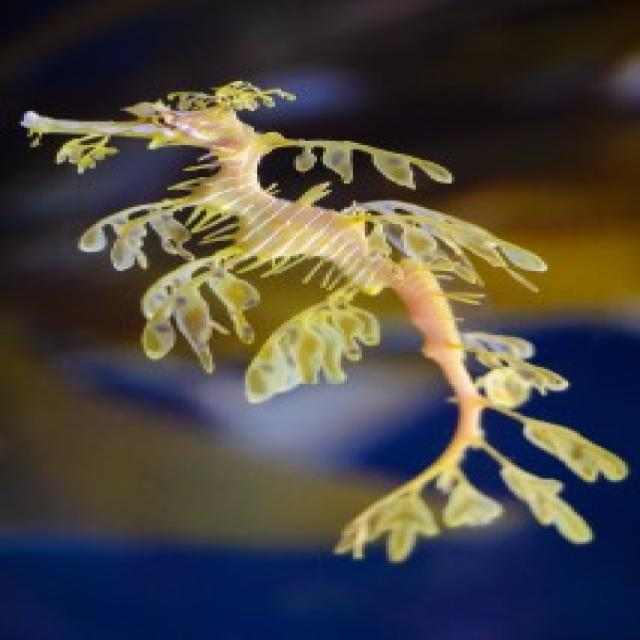Seahorse: (11, 70, 633, 580)
